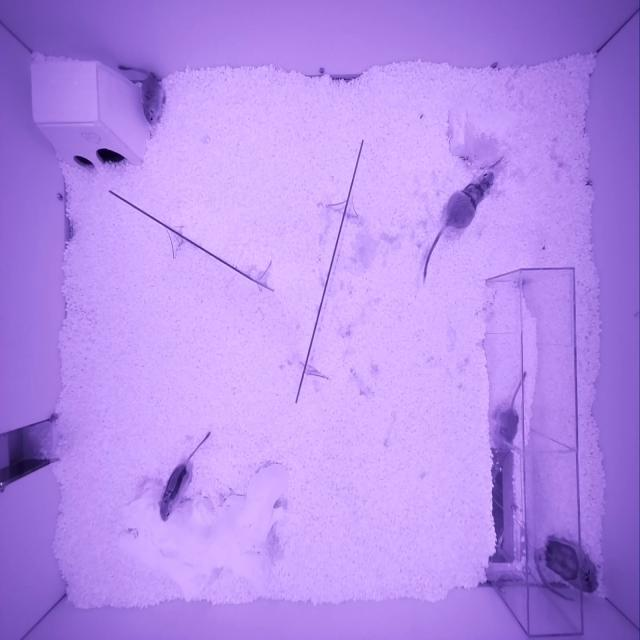adult_back: (543, 537, 599, 594)
adult_front: (446, 169, 495, 229)
pup_fluffy: (140, 76, 166, 126)
pup_spotted: (495, 408, 519, 454)
pup_v_stripe: (158, 461, 194, 522)
